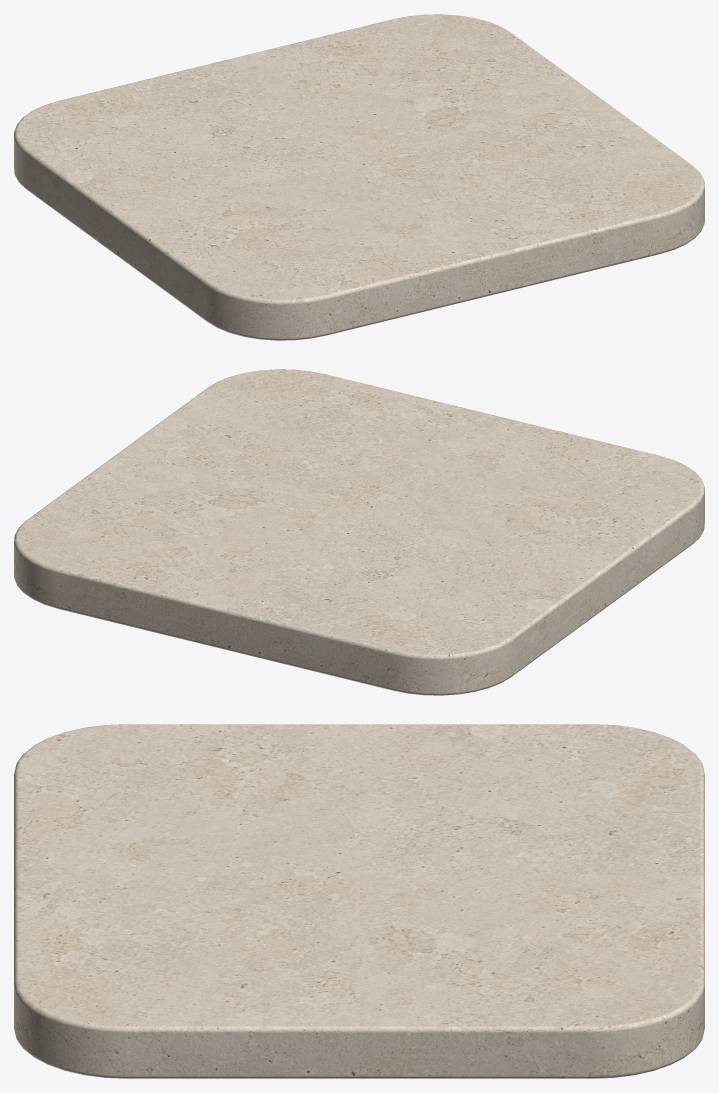
The model's file is roof.glb.
The picture shows the model from 3 angles, top to bottom: view 1: azimuth 30°, elevation 25°; view 2: azimuth 150°, elevation 25°; view 3: azimuth 270°, elevation 25°; orthographic projection. The views are drawn at different scales.
Visible parts, largest first — view 1: roof; view 2: roof; view 3: roof.
Boxes of the visible parts, left/top/right/bottom form: roof: left=14, top=14, right=704, bottom=340; roof: left=14, top=369, right=704, bottom=695; roof: left=14, top=724, right=704, bottom=1078.
Size of the model in its own units: 2.25 by 0.18 by 2.15.
Materials: 1 (1 with a texture image).
